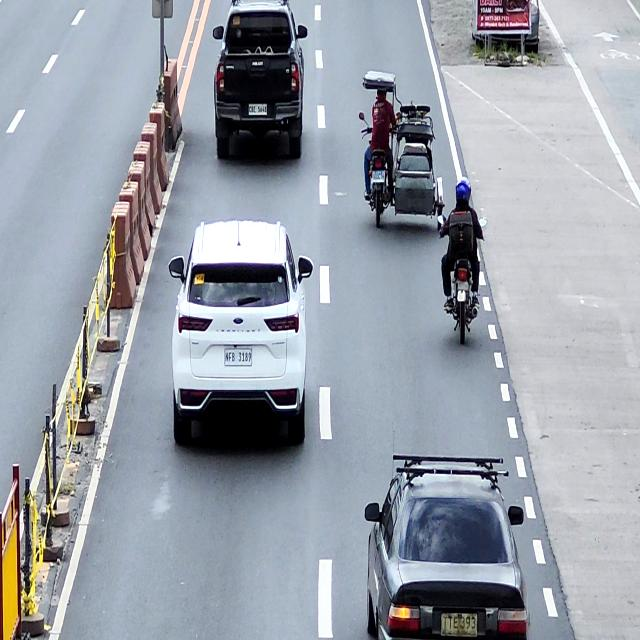Car: (170, 220, 314, 450), (365, 452, 532, 640), (212, 0, 308, 160)
License-Plate: (442, 614, 478, 639), (225, 349, 252, 366), (248, 103, 267, 116), (372, 171, 385, 183), (456, 281, 469, 290)
Motorcycle: (439, 213, 488, 347)
Tricycle: (358, 70, 445, 223)
